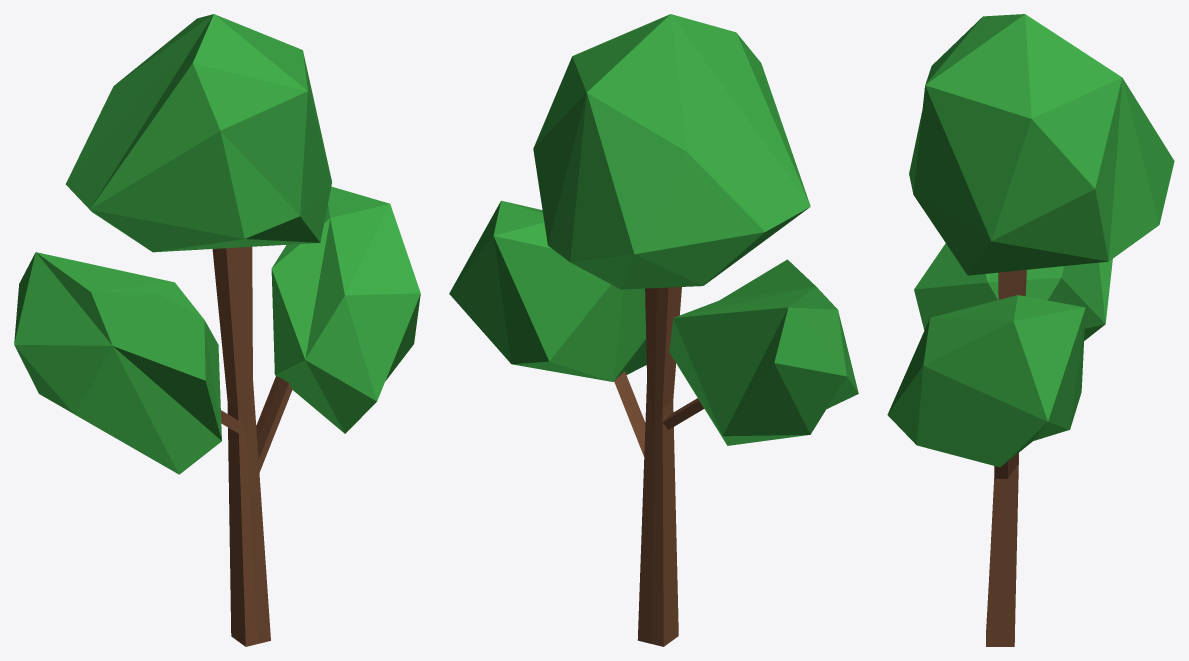
File: Tree_22_Green.fbx
The picture shows the model from 3 angles, left to right: view 1: azimuth 30°, elevation 25°; view 2: azimuth 150°, elevation 25°; view 3: azimuth 270°, elevation 25°; orthographic projection. The views are drawn at different scales.
Visible parts, largest first — view 1: Tree_22_Green_Part_1, Tree_22_Green_Part_2; view 2: Tree_22_Green_Part_1, Tree_22_Green_Part_2; view 3: Tree_22_Green_Part_1, Tree_22_Green_Part_2.
Boxes of the visible parts, x1,y1,x2,y2 form: Tree_22_Green_Part_1: (14,14,420,474); Tree_22_Green_Part_2: (212,246,292,646); Tree_22_Green_Part_1: (449,14,858,445); Tree_22_Green_Part_2: (614,287,704,646); Tree_22_Green_Part_1: (887,14,1174,467); Tree_22_Green_Part_2: (986,270,1026,646).
Bounding box in the file's own units: 509 × 777 × 329.
